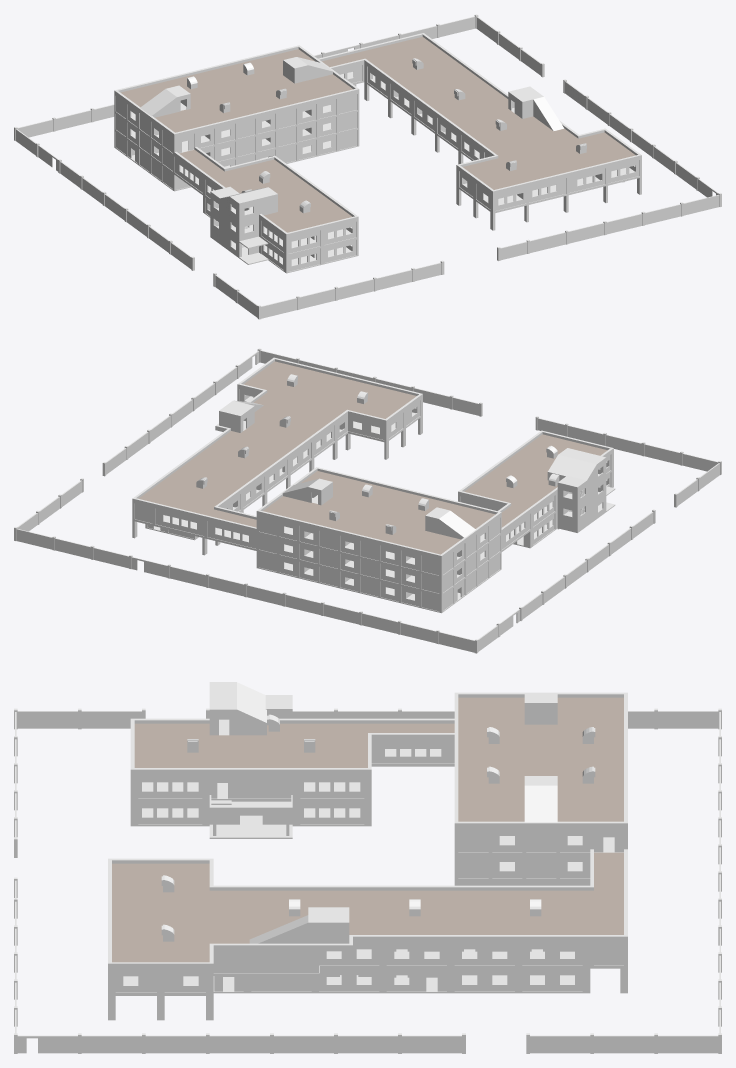
The model's file is TG_BuildingSite.dae.
3 renders of one model, top to bottom at view 1: azimuth 30°, elevation 25°; view 2: azimuth 150°, elevation 25°; view 3: azimuth 270°, elevation 25°, orthographic. The views are drawn at different scales.
Parts seen in each view (by area): view 1: buildingSite; view 2: buildingSite; view 3: buildingSite.
Part boxes in pixels (x1,y1,x2,y2): buildingSite: (14, 14, 721, 319); buildingSite: (14, 348, 721, 653); buildingSite: (14, 682, 721, 1053).
Size of the model in its own units: 102 by 94 by 15.
